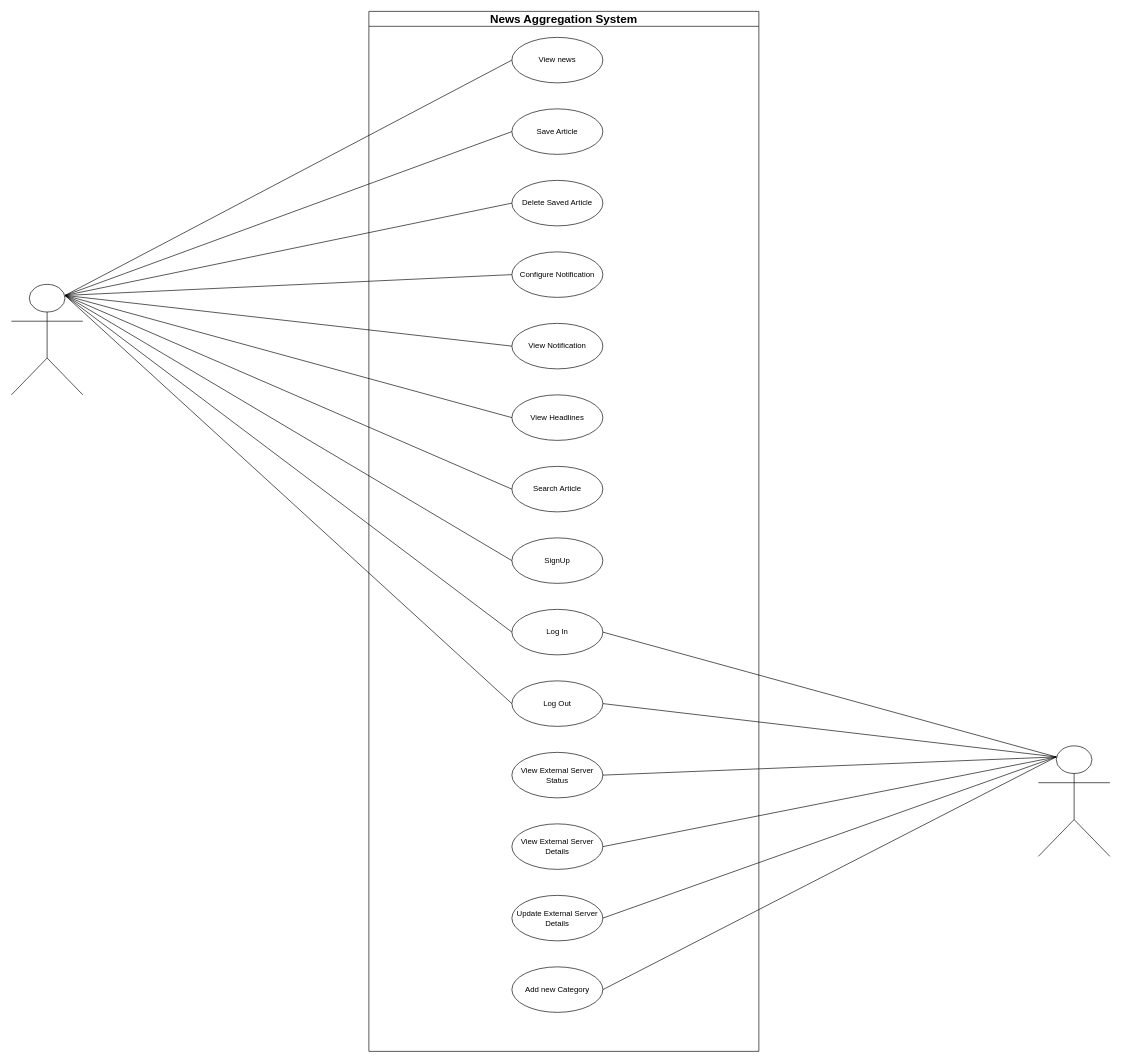
The diagram is 1121 pixels wide and 1063 high, and some of its shapes have lost their labels. The shapes that lost their labels are listed below. From the top down, each one's centre as x and y in pixels, then its label:
point (47, 339): User
point (1074, 800): Admin
